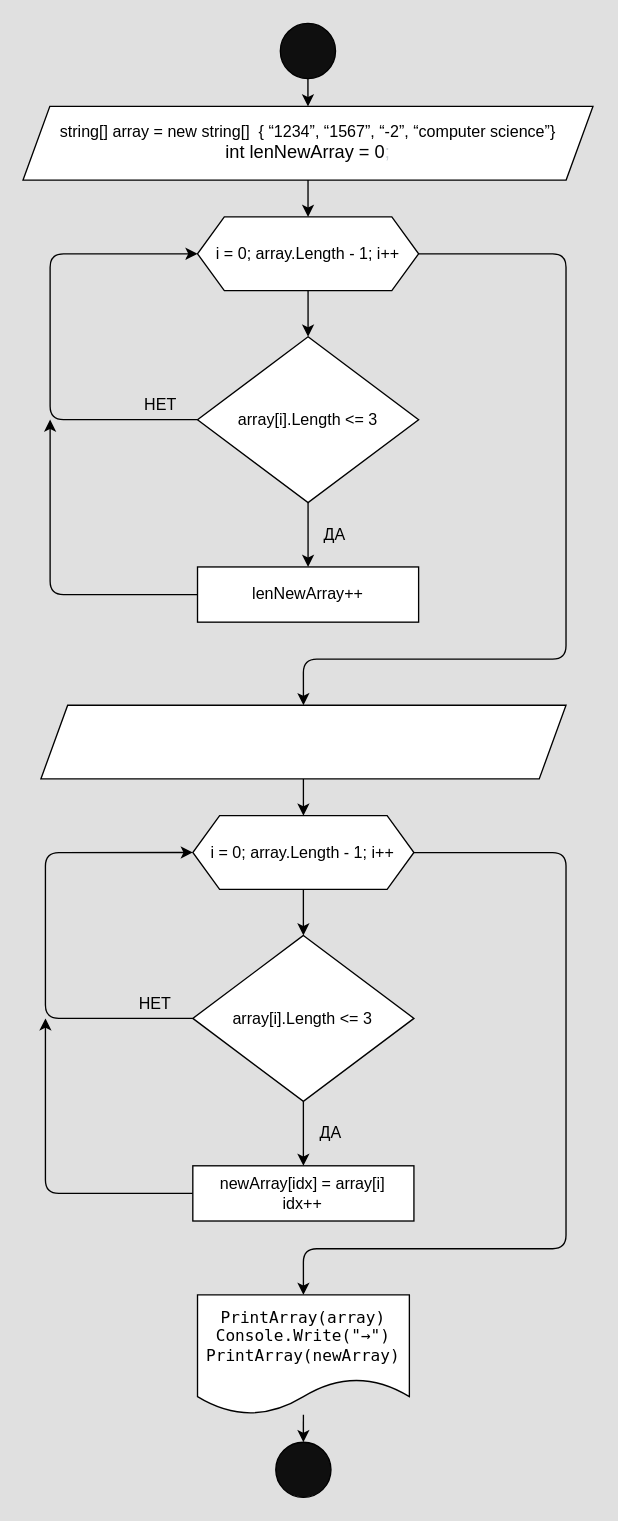
The diagram is 618 pixels wide and 1521 high, and some of its shapes have lost their labels. The shapes that lost their labels are listed below. From the top down, each one's centre as x and y in pixels, then its label:
At pixel 307 50: "START".
At pixel 303 741: "string[] newArray = new string[lenNewArray] int idx = 0;".
At pixel 302 1469: "END".
